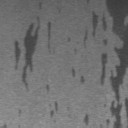red iron: (83, 0, 128, 128), (14, 2, 51, 89), (72, 67, 84, 83), (50, 102, 58, 116), (84, 114, 88, 125), (46, 85, 50, 92), (18, 110, 21, 116), (0, 125, 6, 128), (86, 0, 90, 4), (67, 37, 70, 41)
